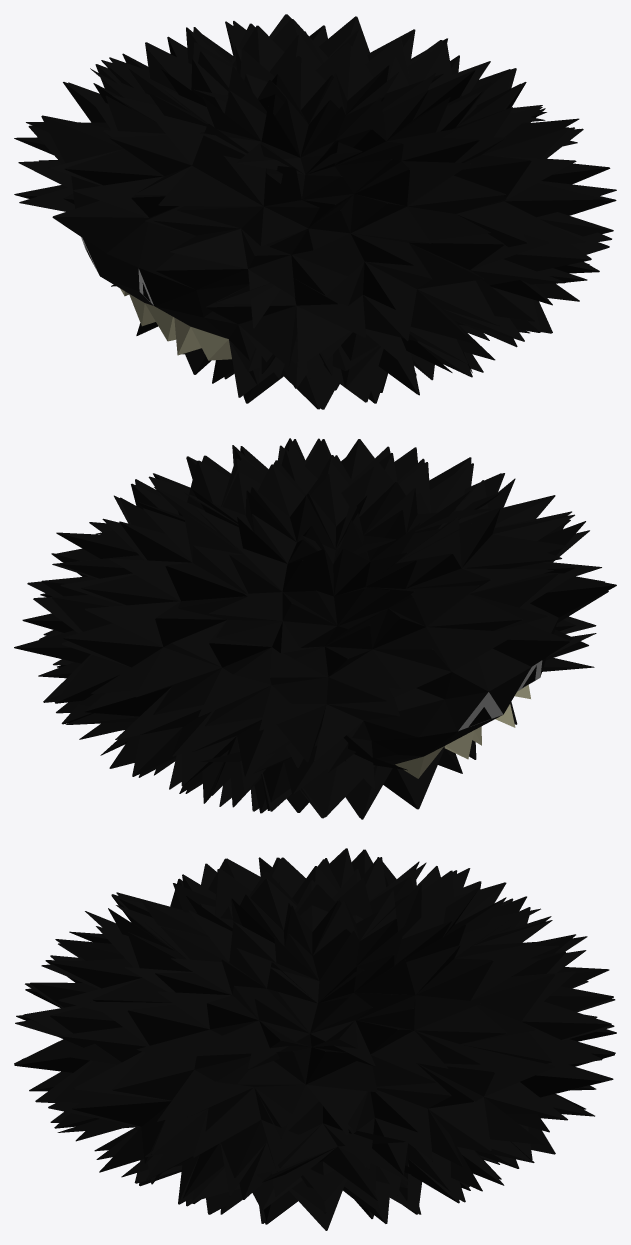
Rendered from monster1.FBX.
The picture shows the model from 3 angles, top to bottom: view 1: azimuth 30°, elevation 25°; view 2: azimuth 150°, elevation 25°; view 3: azimuth 270°, elevation 25°; orthographic projection. The views are drawn at different scales.
Parts seen in each view (by area): view 1: GeoSphere001; view 2: GeoSphere001; view 3: GeoSphere001.
Boxes of the visible parts, x1,y1,x2,y2 form: GeoSphere001: [14, 14, 616, 409]; GeoSphere001: [14, 438, 616, 819]; GeoSphere001: [14, 848, 616, 1230].
Bounding box in the file's own units: 131 × 69.47 × 137.
